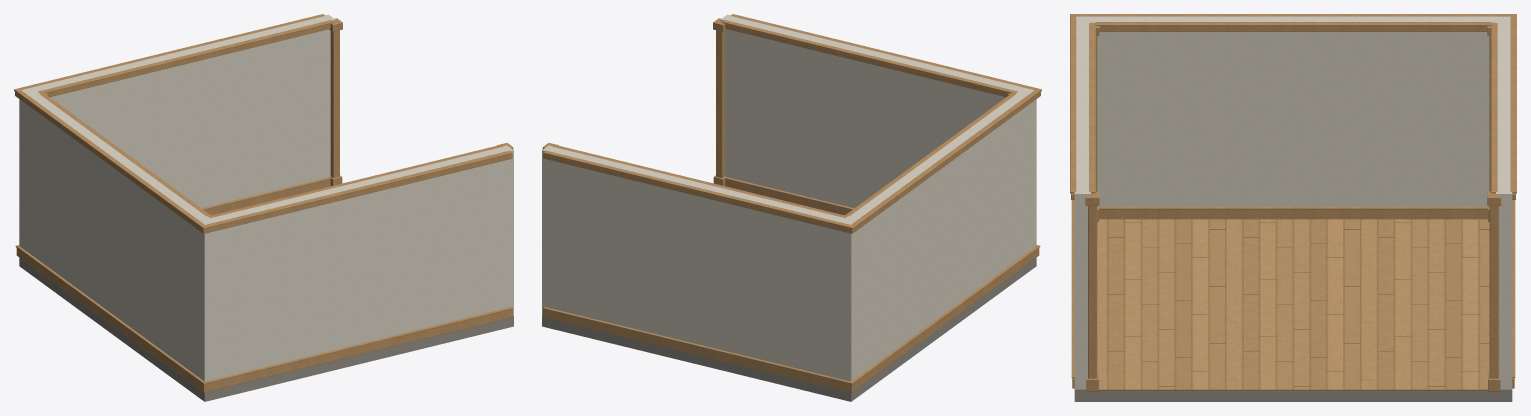
The model's file is left.glb.
3 renders of one model, left to right at view 1: azimuth 30°, elevation 25°; view 2: azimuth 150°, elevation 25°; view 3: azimuth 270°, elevation 25°, orthographic. The views are drawn at different scales.
Parts seen in each view (by area): view 1: Wall_Upper (×3), Wall_Lower (×3), Trim_Upper (×3), Trim_Lower (×3), Wall_Foundation (×2), Oak_Column; view 2: Wall_Upper (×3), Wall_Lower (×3), Trim_Upper (×3), Trim_Lower (×3), Wall_Foundation (×2), Oak_Column; view 3: Floor, Wall_Upper (×3), Wall_Lower (×3), Trim_Upper (×3), Trim_Lower (×3), Floor_Foundation, Oak_Column (×4).
Part boxes in pixels (bbox=[...]): Wall_Upper (×3): bbox=[19, 14, 513, 343]; Wall_Lower (×3): bbox=[19, 139, 513, 381]; Trim_Upper (×3): bbox=[14, 14, 512, 233]; Trim_Lower (×3): bbox=[15, 177, 512, 392]; Wall_Foundation (×2): bbox=[26, 263, 513, 401]; Oak_Column: bbox=[330, 30, 339, 177]; Wall_Upper (×3): bbox=[542, 14, 1036, 343]; Wall_Lower (×3): bbox=[542, 139, 1036, 381]; Trim_Upper (×3): bbox=[543, 14, 1041, 233]; Trim_Lower (×3): bbox=[543, 177, 1040, 392]; Wall_Foundation (×2): bbox=[542, 263, 1029, 401]; Oak_Column: bbox=[716, 30, 725, 177]; Floor: bbox=[1097, 219, 1489, 391]; Wall_Upper (×3): bbox=[1074, 16, 1512, 333]; Wall_Lower (×3): bbox=[1074, 162, 1512, 389]; Trim_Upper (×3): bbox=[1070, 14, 1516, 199]; Trim_Lower (×3): bbox=[1071, 200, 1515, 388]; Floor_Foundation: bbox=[1091, 391, 1495, 401]; Oak_Column (×4): bbox=[1088, 36, 1498, 378].
Bounding box in the file's own units: 6.39 × 3.4 × 6.62.
4 materials, 3 textured.
